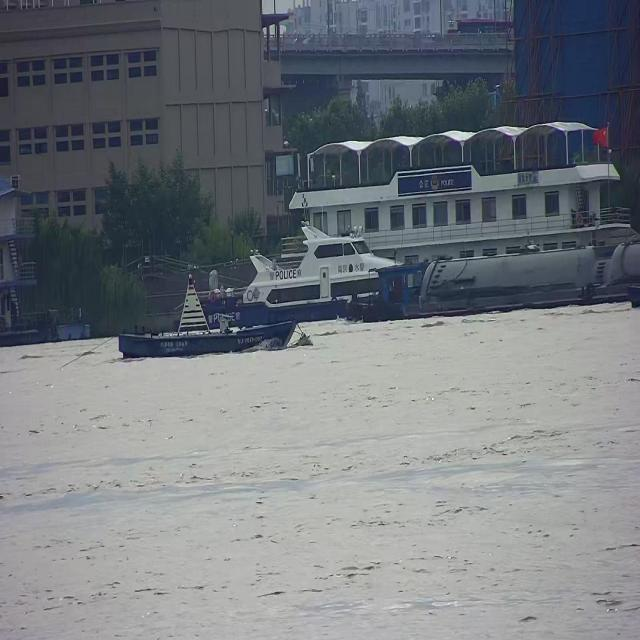CIV_Ship: (118, 272, 296, 356)
